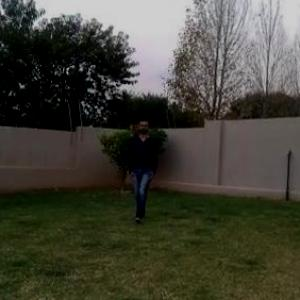follow: (127, 119, 153, 224)
